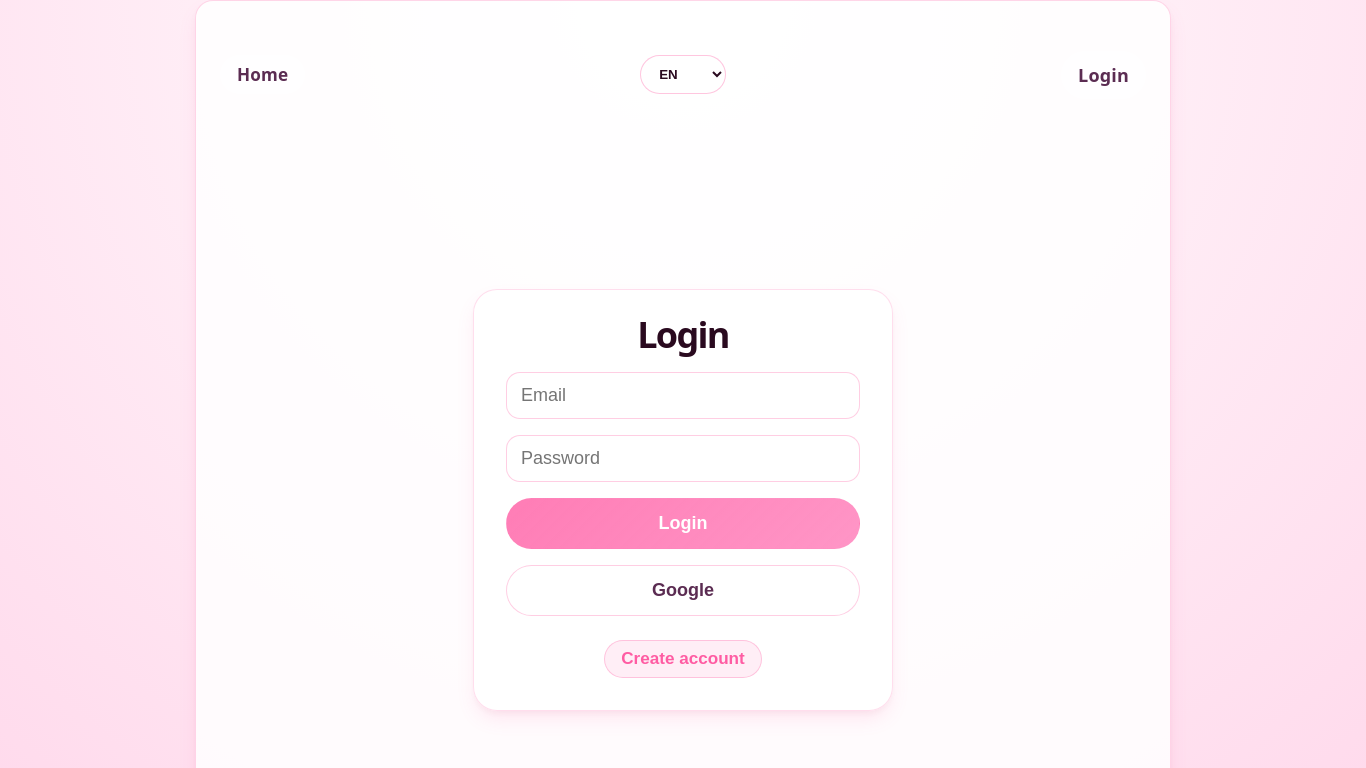
Test case: LoginForm › shows validation errors when fields are empty
Click the submit button: coordinates (683, 524) [506,498,860,549]
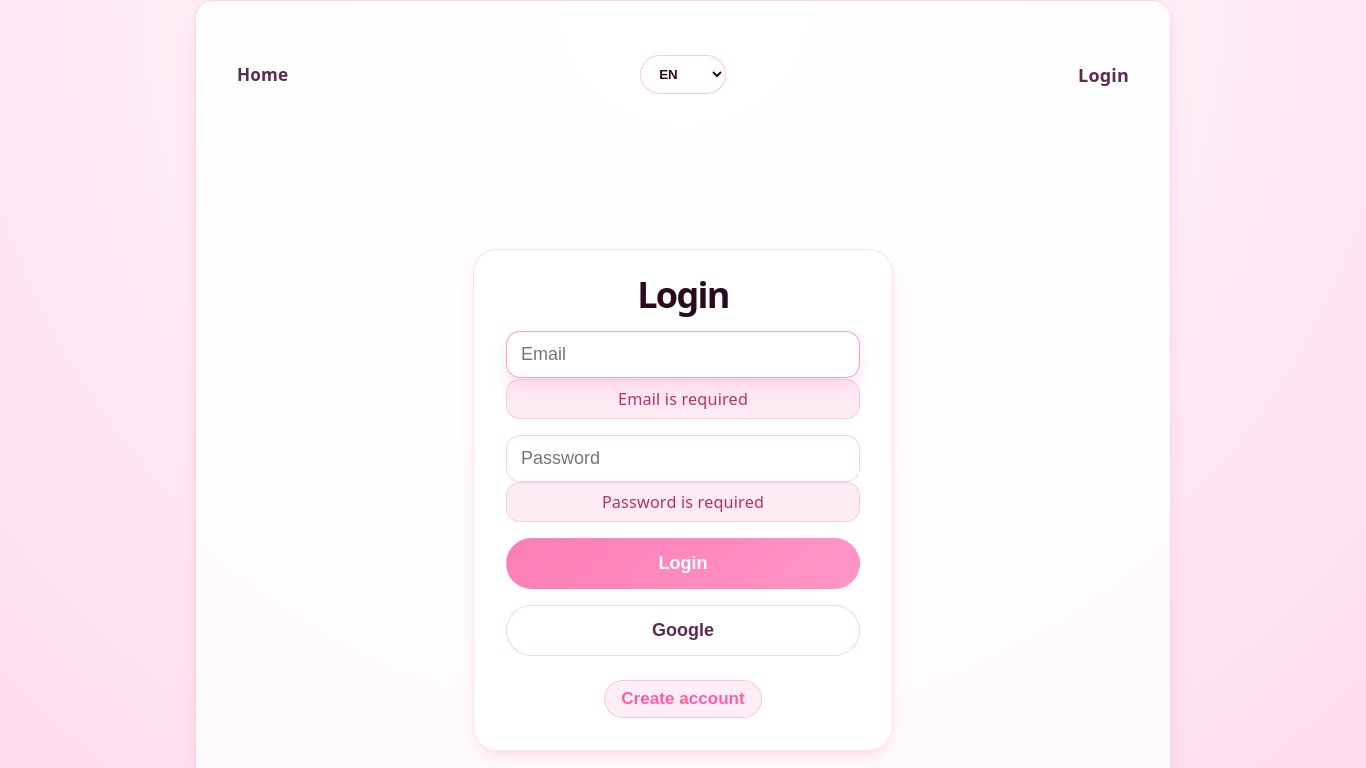
Check: the text "Email is required" is shown, box [506,379,860,419]
Check: the text "Password is required" is shown, box [506,482,860,522]
